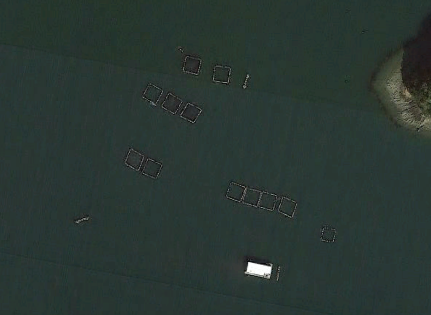square: (120, 145, 149, 175), (222, 178, 250, 208), (158, 88, 182, 120), (177, 100, 204, 127), (274, 194, 300, 222), (142, 79, 167, 108), (178, 52, 206, 77), (141, 156, 166, 184), (319, 221, 344, 247), (208, 62, 232, 88), (241, 185, 264, 209), (259, 190, 280, 216)
